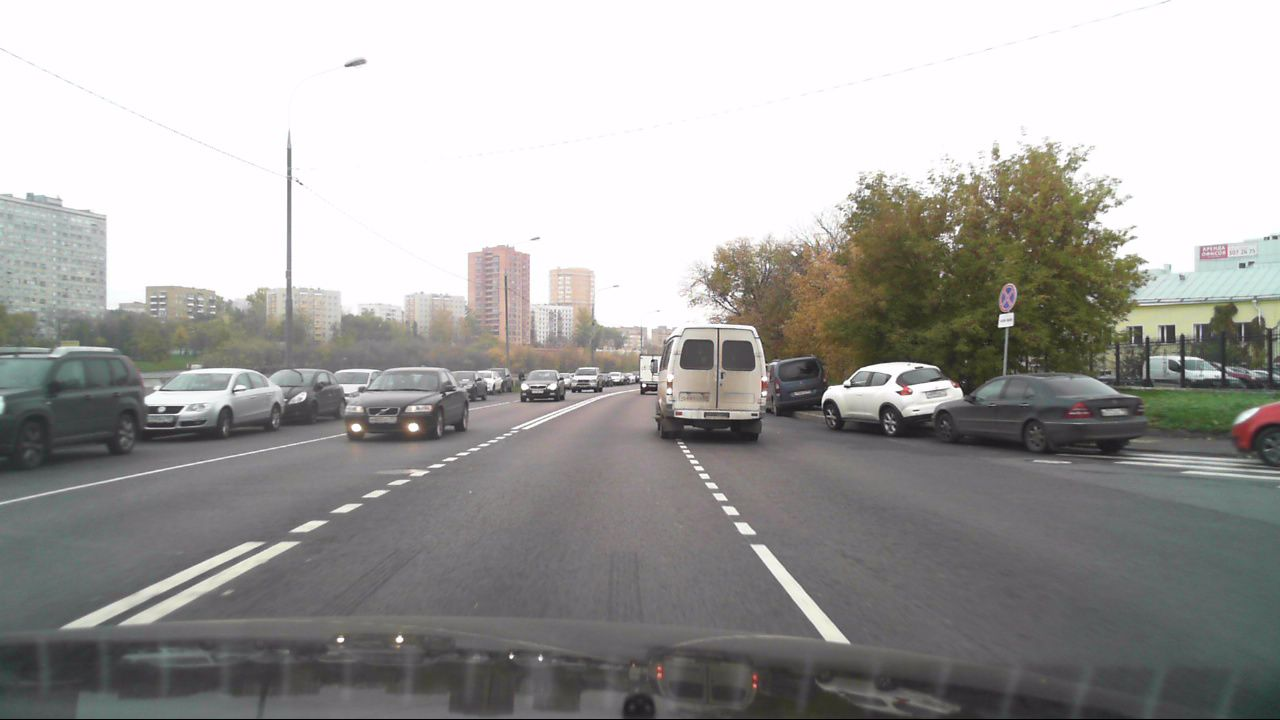No Parking: (997, 284, 1017, 313)
